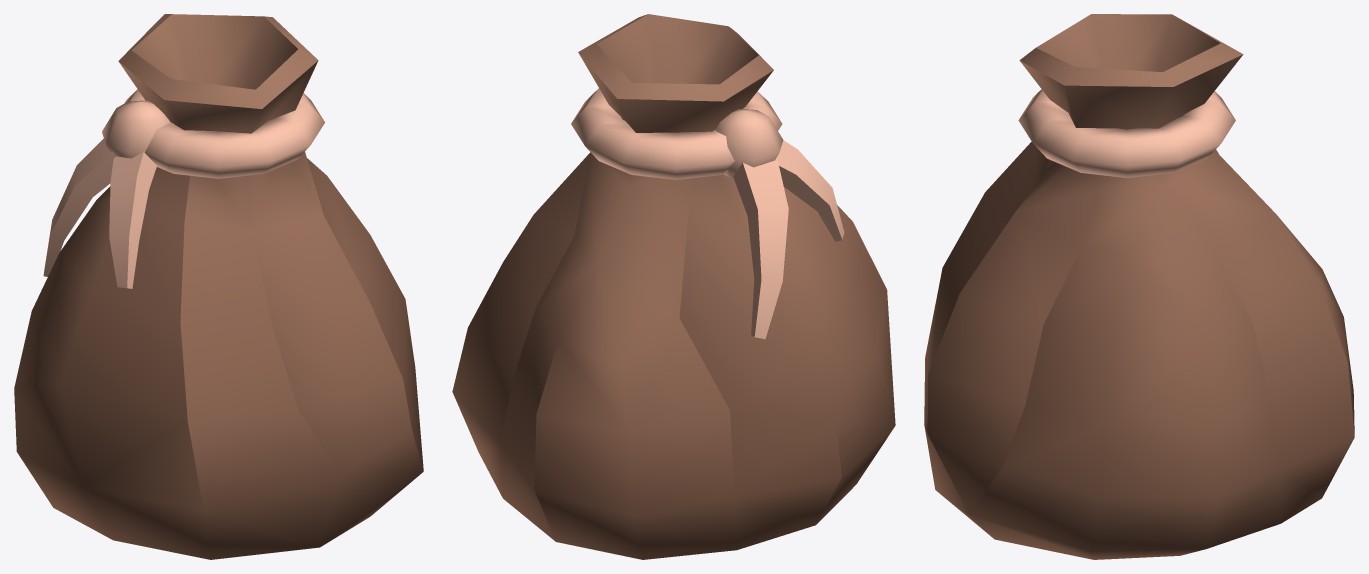
Rendered from pouch.fbx.
3 renders of one model, left to right at view 1: azimuth 30°, elevation 25°; view 2: azimuth 150°, elevation 25°; view 3: azimuth 270°, elevation 25°, orthographic. The views are drawn at different scales.
Visible parts, largest first — view 1: pouch; view 2: pouch; view 3: pouch.
Boxes of the visible parts, <box> form: pouch: <box>14,14,423,559</box>; pouch: <box>452,14,895,559</box>; pouch: <box>924,14,1354,559</box>.
Bounding box in the file's own units: 2.31 × 2.76 × 2.3.
